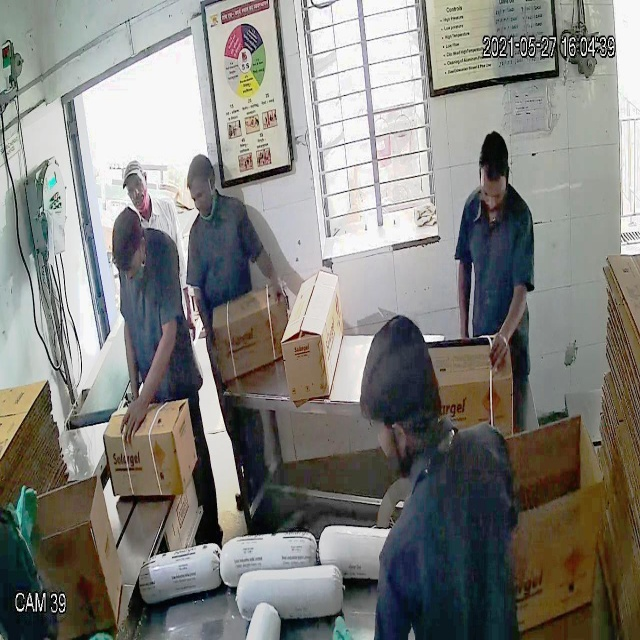Sin_gafas: (118, 170, 160, 201)
